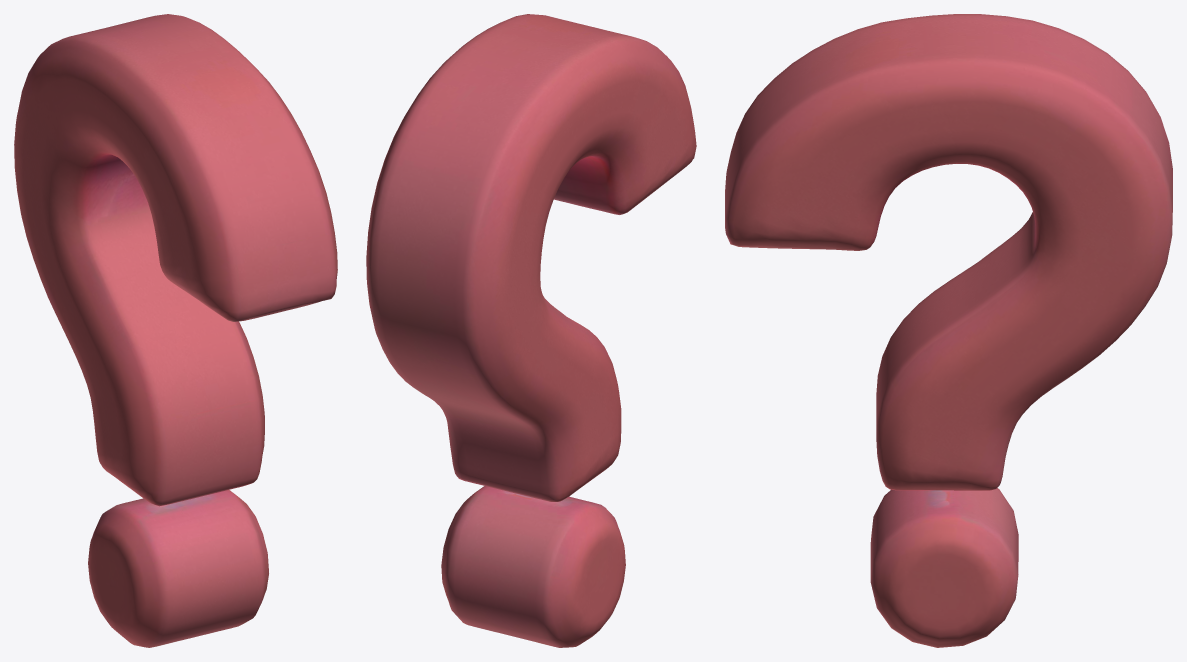
File: tripo_convert_1dba8dea-5b9e-472b-91f6-594861cc3e2c.fbx
The picture shows the model from 3 angles, left to right: view 1: azimuth 30°, elevation 25°; view 2: azimuth 150°, elevation 25°; view 3: azimuth 270°, elevation 25°; orthographic projection.
Parts seen in each view (by area): view 1: tripo_node_1dba8dea-5b9e-472b-91f6-594861cc3e2c; view 2: tripo_node_1dba8dea-5b9e-472b-91f6-594861cc3e2c; view 3: tripo_node_1dba8dea-5b9e-472b-91f6-594861cc3e2c.
Boxes of the visible parts, x1,y1,x2,y2 form: tripo_node_1dba8dea-5b9e-472b-91f6-594861cc3e2c: (14,14,337,647); tripo_node_1dba8dea-5b9e-472b-91f6-594861cc3e2c: (366,14,696,647); tripo_node_1dba8dea-5b9e-472b-91f6-594861cc3e2c: (725,14,1172,647).
Bounding box in the file's own units: 22.76 × 94.87 × 65.44.
Materials: 1 (1 with a texture image).
